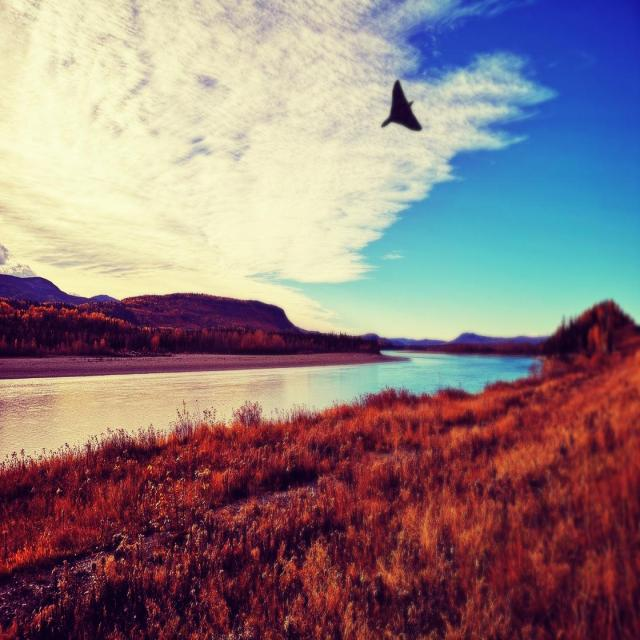airplane: (380, 78, 422, 132)
